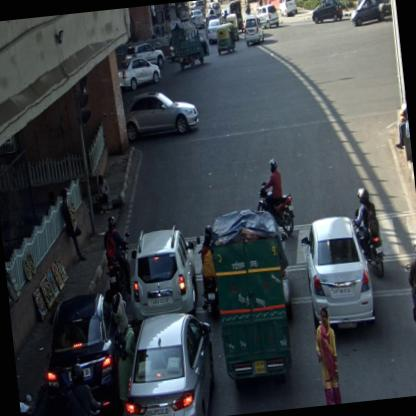car: (115, 308, 220, 415), (37, 290, 126, 415), (298, 214, 377, 340), (124, 221, 202, 322), (123, 86, 201, 144), (117, 54, 163, 92), (122, 40, 164, 72), (348, 0, 387, 28), (309, 0, 345, 25), (242, 14, 264, 48), (254, 4, 278, 30), (204, 14, 223, 44), (275, 0, 297, 19), (190, 8, 204, 29), (208, 0, 222, 21)
motorcycle: (246, 156, 296, 240), (350, 185, 386, 277), (192, 223, 221, 320), (102, 214, 134, 294), (403, 235, 415, 358), (16, 371, 37, 415)
truck: (209, 204, 294, 390), (171, 19, 210, 69)
